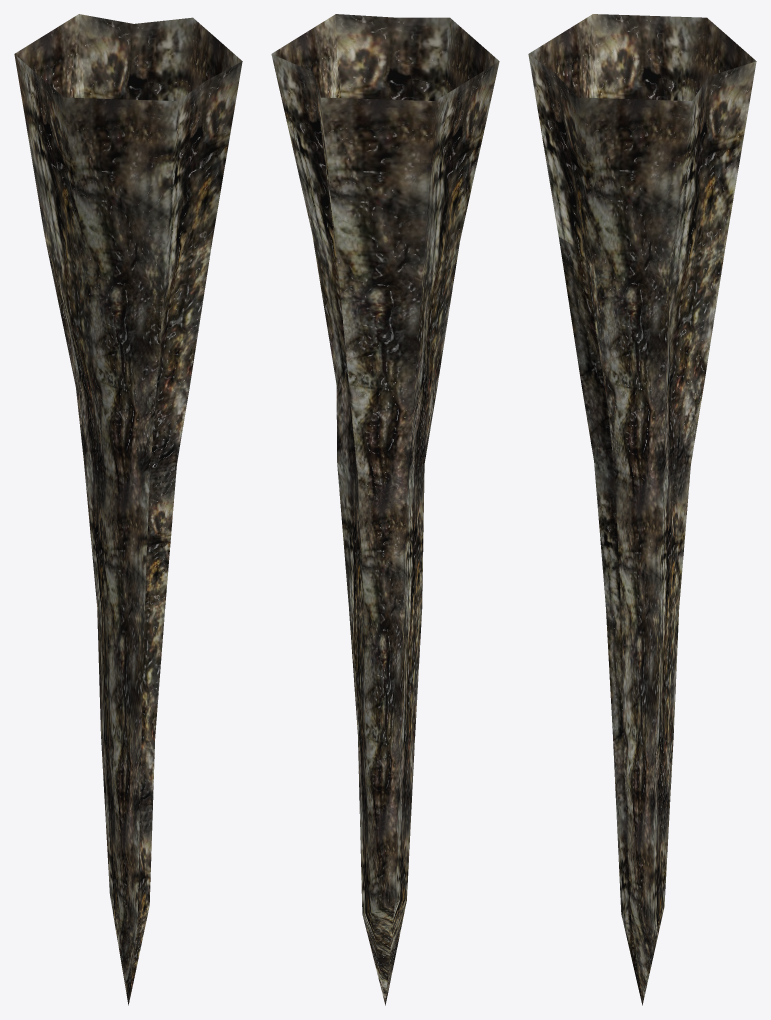
Rendered from pir_m_prp_cav_stite_single.fbx.
3 renders of one model, left to right at view 1: azimuth 30°, elevation 25°; view 2: azimuth 150°, elevation 25°; view 3: azimuth 270°, elevation 25°, orthographic.
Visible parts, largest first — view 1: lod_high; view 2: lod_high; view 3: lod_high.
Boxes of the visible parts, x1,y1,x2,y2 form: lod_high: (14, 14, 242, 1005); lod_high: (271, 14, 499, 1005); lod_high: (528, 14, 756, 1005).
Bounding box in the file's own units: 1215 × 6162 × 1344.
Materials: 1 (1 with a texture image).
